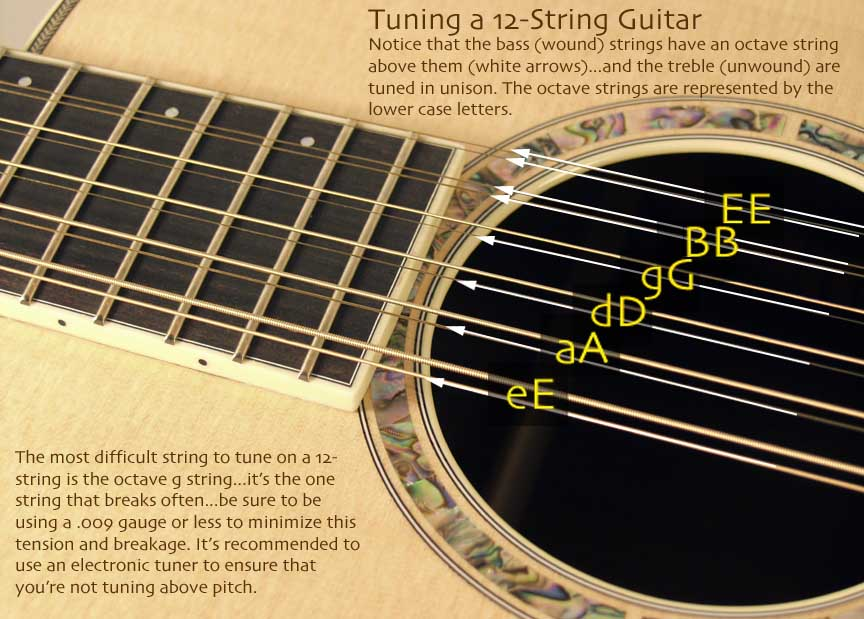guitar: (4, 1, 856, 619)
